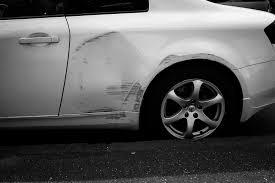quaterpanel-dent: (70, 25, 263, 79)
